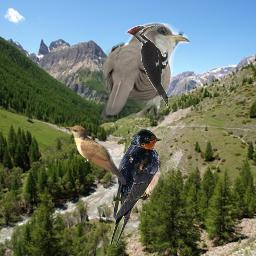Cuckoo: (99, 22, 190, 121), (65, 125, 126, 185)
Swallow: (107, 127, 163, 247)
Woodpecker: (125, 25, 168, 108)
